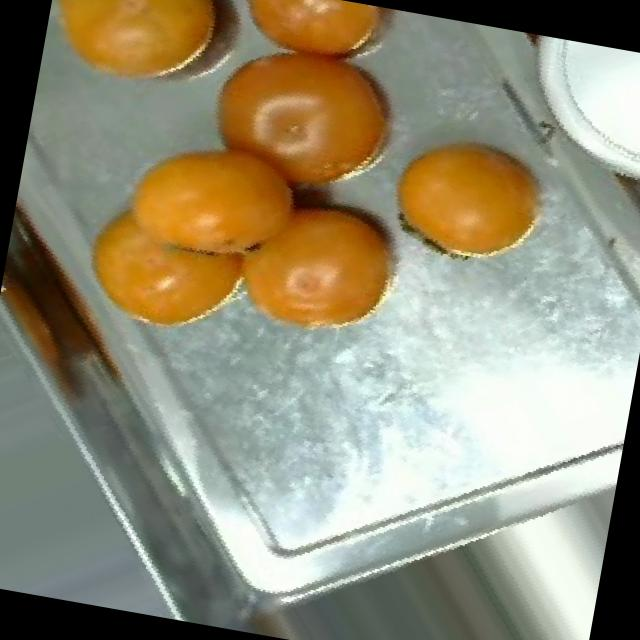Fruit: (207, 150, 444, 368), (358, 100, 580, 294), (36, 0, 255, 121)
